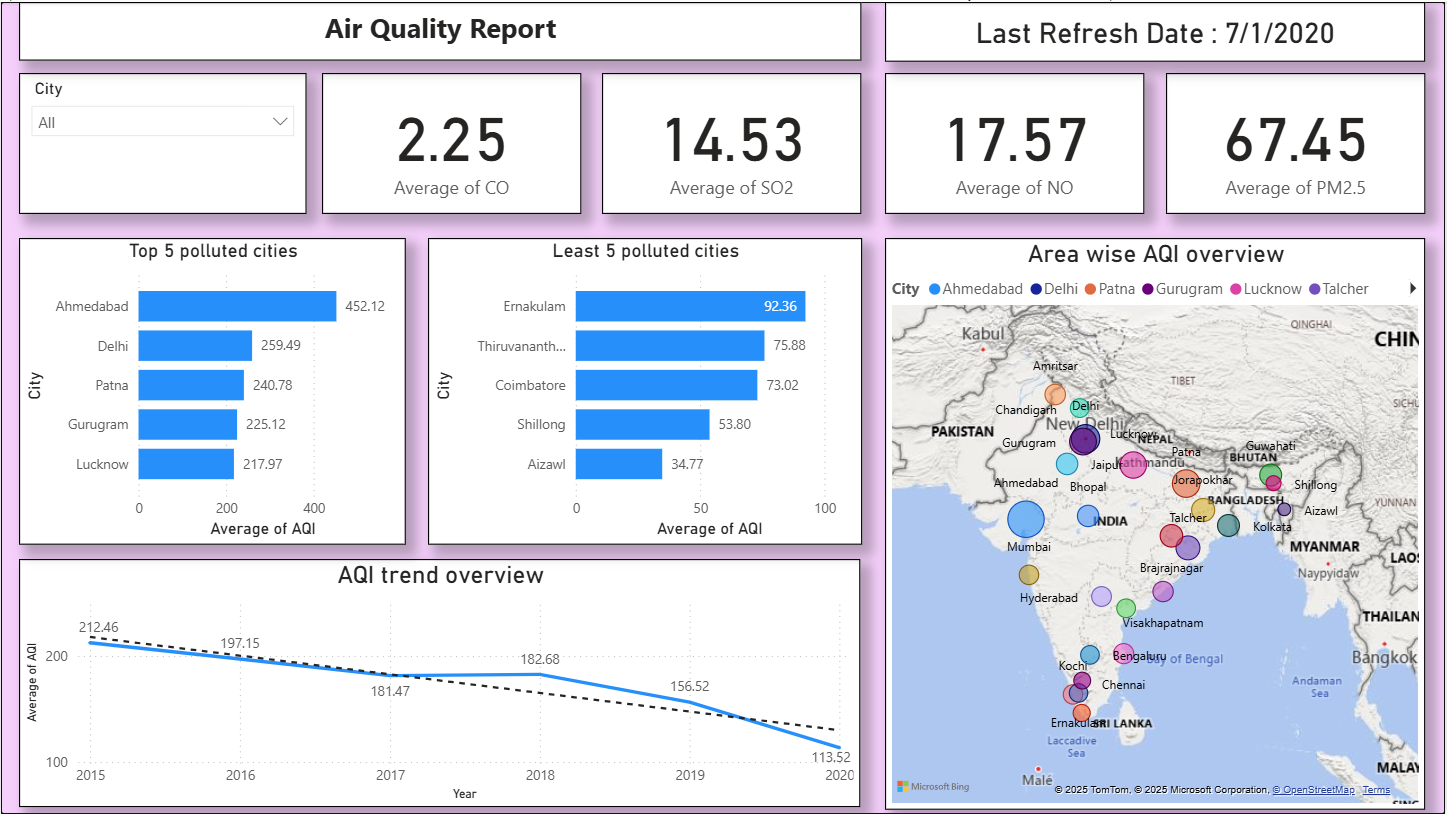

What the dashboard file says about the page in this screenshot:
{"tool":"powerbi","page":{"name":"Air Quality ","canvas":[1280,720],"ordinal":0},"visuals":[{"type":"lineChart","title":"AQI trend overview","fields":{"Y":["Avg(city_day.AQI)"],"Category":["city_day.Date.Variation.Date Hierarchy.Year"]},"box":[16.4,493.6,746.4,220],"z":0},{"type":"slicer","fields":{"Values":["city_day.City"]},"box":[16.4,62.7,255.5,125.5],"z":1000},{"type":"clusteredBarChart","title":"Top 5 polluted cities","fields":{"Category":["city_day.City"],"Y":["Avg(city_day.AQI)"]},"box":[16.4,209.1,342.7,271.8],"z":2000},{"type":"clusteredBarChart","title":"Least 5 polluted cities","fields":{"Category":["city_day.City"],"Y":["Avg(city_day.AQI)"]},"box":[378.2,209.1,384.5,271.8],"z":3000},{"type":"card","fields":{"Values":["Avg(city_day.CO)"]},"box":[284.5,62.7,230,125.5],"z":4000},{"type":"card","fields":{"Values":["Avg(city_day.SO2)"]},"box":[532.7,62.7,230,125.5],"z":5000},{"type":"card","fields":{"Values":["Avg(city_day.PM2.5)"]},"box":[1032.7,62.7,230,125.5],"z":6000},{"type":"card","fields":{"Values":["Avg(city_day.NO)"]},"box":[783.6,62.7,230,125.5],"z":7000},{"type":"map","title":"Area wise AQI overview","fields":{"Category":["city_day.City"],"Series":["city_day.City"],"Size":["Avg(city_day.AQI)"]},"box":[783.6,209.1,479.1,507.3],"z":8000},{"type":"textbox","box":[16,0,747.5,52.3],"z":9000},{"type":"card","fields":{"Values":["city_day.Max Date"]},"box":[783.6,0,479.1,52.7],"z":10000}]}

Visuals, with their boxes in screenshot pixels (x1, y1, x2, y2), scaled from the page's 1280x720 canvas onto the 1447x814 screenshot:
"AQI trend overview" lineChart: bbox(19, 558, 862, 807)
slicer - city_day.City: bbox(19, 71, 307, 213)
"Top 5 polluted cities" clusteredBarChart: bbox(19, 236, 406, 544)
"Least 5 polluted cities" clusteredBarChart: bbox(428, 236, 862, 544)
card - Avg(city_day.CO): bbox(322, 71, 582, 213)
card - Avg(city_day.SO2): bbox(602, 71, 862, 213)
card - Avg(city_day.PM2.5): bbox(1167, 71, 1427, 213)
card - Avg(city_day.NO): bbox(886, 71, 1146, 213)
"Area wise AQI overview" map: bbox(886, 236, 1427, 810)
textbox: bbox(18, 0, 863, 59)
card - city_day.Max Date: bbox(886, 0, 1427, 60)
